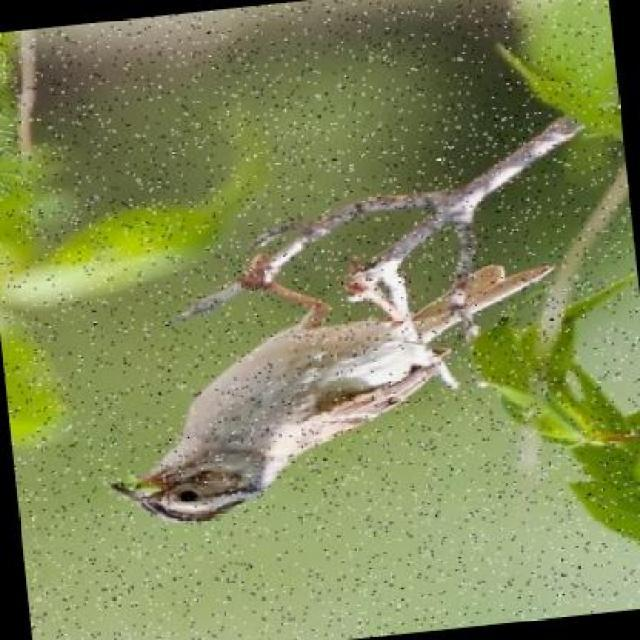Bird: (108, 261, 553, 532)
